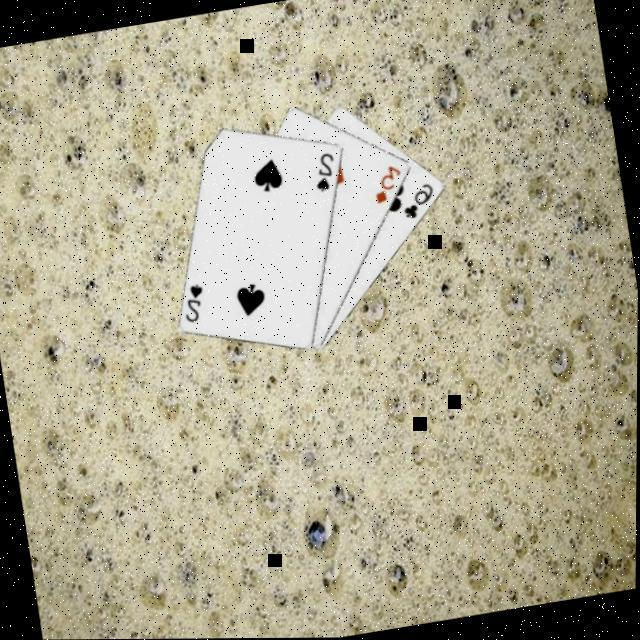2S: (177, 280, 209, 328), (308, 150, 340, 197)
3D: (367, 162, 407, 208)
6C: (396, 181, 439, 224)
